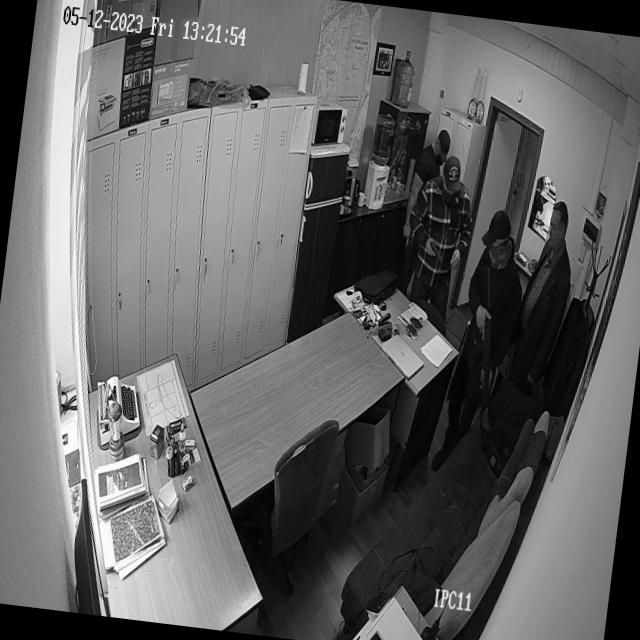gun: (451, 312, 505, 524), (424, 222, 448, 266)
person with a gun: (444, 195, 526, 508), (392, 147, 482, 370)
